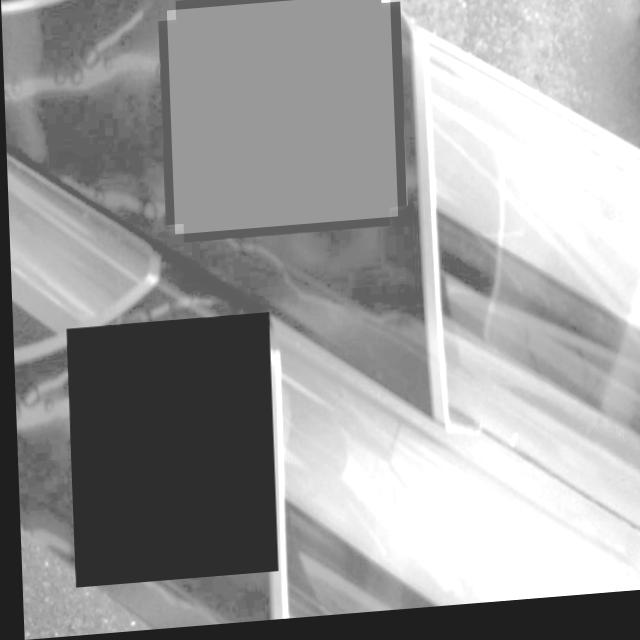qr_code: (63, 317, 273, 589), (166, 0, 395, 237)
